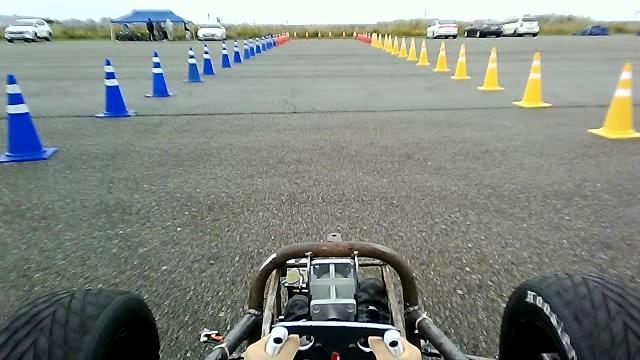blue cone: (0, 73, 57, 162), (93, 57, 131, 118), (143, 50, 175, 98), (181, 46, 204, 83), (201, 42, 215, 75), (220, 40, 232, 69)
yellow cone: (588, 62, 640, 138), (511, 51, 552, 108), (476, 46, 504, 91), (450, 43, 471, 79), (432, 40, 450, 72), (415, 38, 430, 66)
